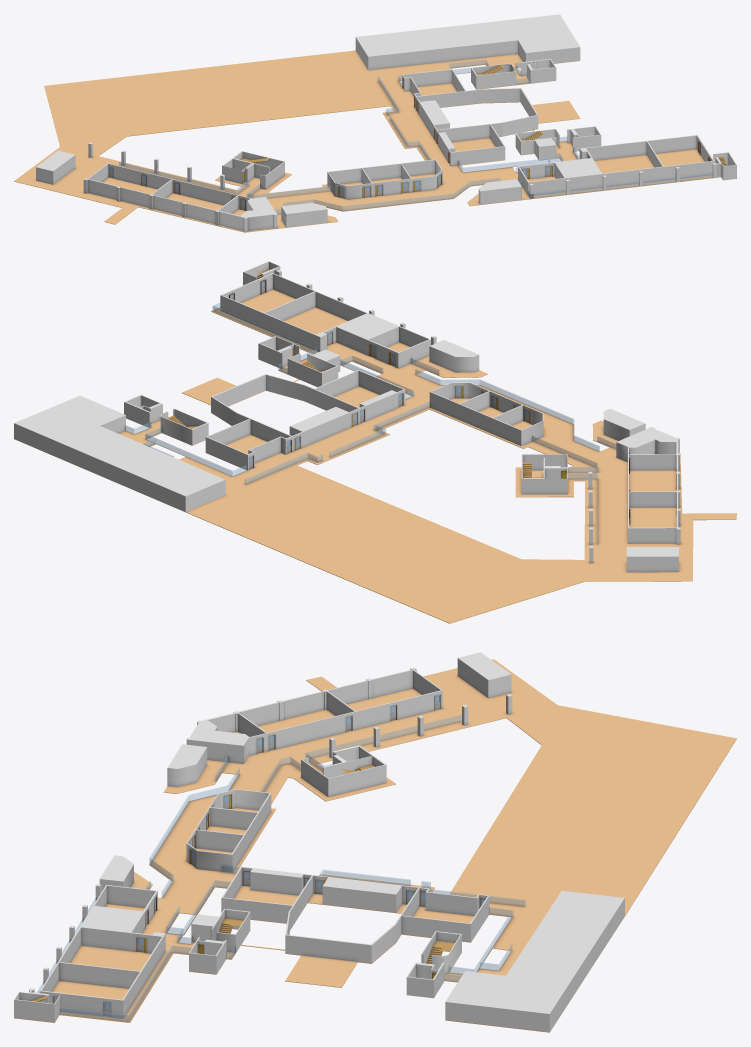
File: COM2_L1.dae
The picture shows the model from 3 angles, top to bottom: view 1: azimuth 30°, elevation 25°; view 2: azimuth 150°, elevation 25°; view 3: azimuth 270°, elevation 25°; orthographic projection. The views are drawn at different scales.
Visible parts, largest first — view 1: BIZCanteen, COM2_L1_Floor, COM2_L1_Zone5, COM2_L1_Misc, COM2_L1_Zone1, COM2_L1_Zone4, COM2_L1_Zone3, COM2_L1_LowWall, COM2_L1_Zone2, COM2_L1_Zone1Top, COM2_L1_FloorSide, COM2_L1_Doors (+5 smaller); view 2: BIZCanteen, COM2_L1_Floor, COM2_L1_Zone5, COM2_L1_Zone4, COM2_L1_Zone3, COM2_L1_Misc, COM2_L1_LowWall, COM2_L1_Zone2, COM2_L1_Zone1, COM2_L1_Zone1Top, COM2_L1_Zone3Top, COM2_L1_Zone4Top (+5 smaller); view 3: BIZCanteen, COM2_L1_Floor, COM2_L1_Zone5, COM2_L1_Zone4, COM2_L1_Zone1, COM2_L1_Misc, COM2_L1_Zone3, COM2_L1_LowWall, COM2_L1_Zone2, COM2_L1_Zone1Top, COM2_L1_Doors, COM2_L1_Zone3Top (+7 smaller).
Part boxes in pixels (x1,y1,x2,y2): BIZCanteen: (44, 50, 390, 155); COM2_L1_Floor: (14, 54, 712, 232); COM2_L1_Zone5: (355, 14, 580, 70); COM2_L1_Misc: (222, 59, 736, 189); COM2_L1_Zone1: (36, 155, 273, 230); COM2_L1_Zone4: (402, 69, 538, 166); COM2_L1_Zone3: (518, 135, 714, 195); COM2_L1_LowWall: (119, 59, 712, 213); COM2_L1_Zone2: (281, 160, 521, 227); COM2_L1_Zone1Top: (36, 150, 276, 217); COM2_L1_FloorSide: (14, 60, 736, 232); COM2_L1_Doors: (109, 77, 710, 210); BIZCanteen: (186, 465, 584, 623); COM2_L1_Floor: (119, 289, 736, 581); COM2_L1_Zone5: (14, 395, 225, 511); COM2_L1_Zone4: (205, 370, 405, 470); COM2_L1_Zone3: (220, 274, 430, 368); COM2_L1_Misc: (124, 262, 567, 494); COM2_L1_LowWall: (125, 303, 615, 544); COM2_L1_Zone2: (429, 346, 645, 445); COM2_L1_Zone1: (616, 439, 678, 572); COM2_L1_Zone1Top: (616, 427, 678, 556); COM2_L1_Zone3Top: (220, 273, 430, 352); COM2_L1_Zone4Top: (206, 370, 404, 454); BIZCanteen: (449, 705, 736, 915); COM2_L1_Floor: (52, 659, 557, 1022); COM2_L1_Zone5: (445, 890, 624, 1031); COM2_L1_Zone4: (221, 867, 489, 963); COM2_L1_Zone1: (188, 658, 511, 763); COM2_L1_Misc: (14, 746, 461, 1022); COM2_L1_Zone3: (39, 885, 165, 1018); COM2_L1_LowWall: (37, 715, 525, 1021); COM2_L1_Zone2: (99, 747, 271, 891); COM2_L1_Zone1Top: (188, 652, 511, 745); COM2_L1_Doors: (52, 694, 485, 1016); COM2_L1_Zone3Top: (40, 885, 165, 1000).
Size of the model in its own units: 147 by 3.42 by 120.
17 materials, 13 textured.
